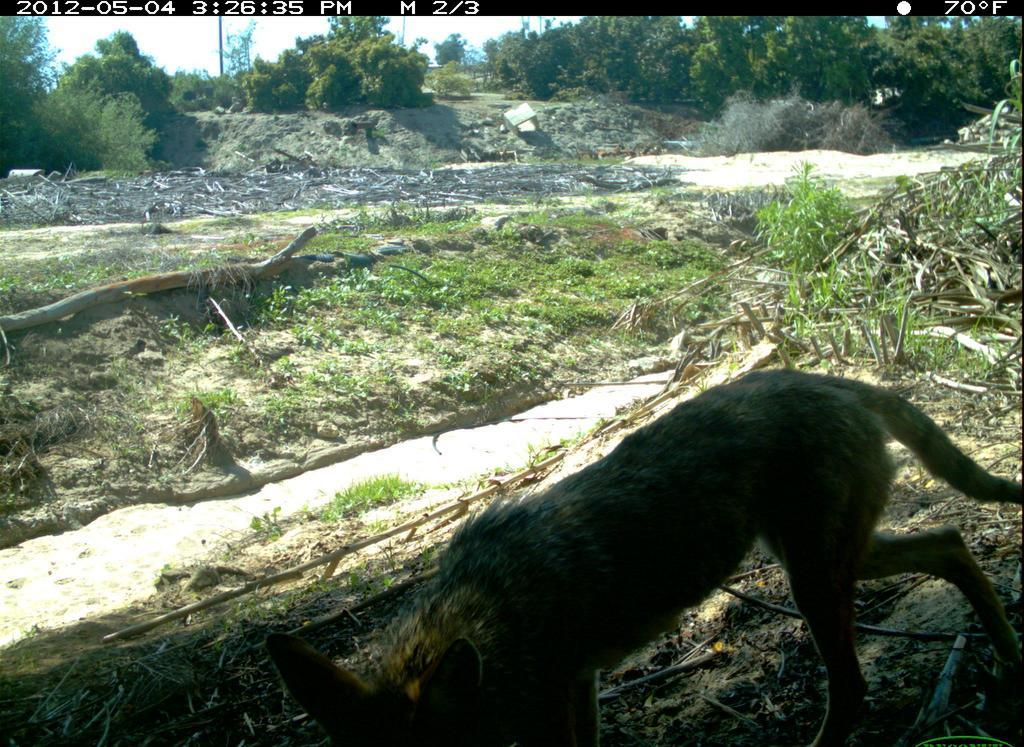coyote: (256, 365, 1019, 747)
